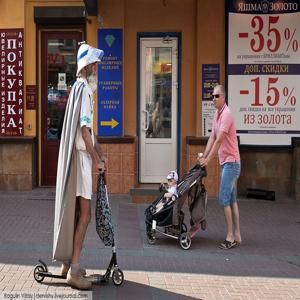human on a scooter: (31, 41, 125, 290)
